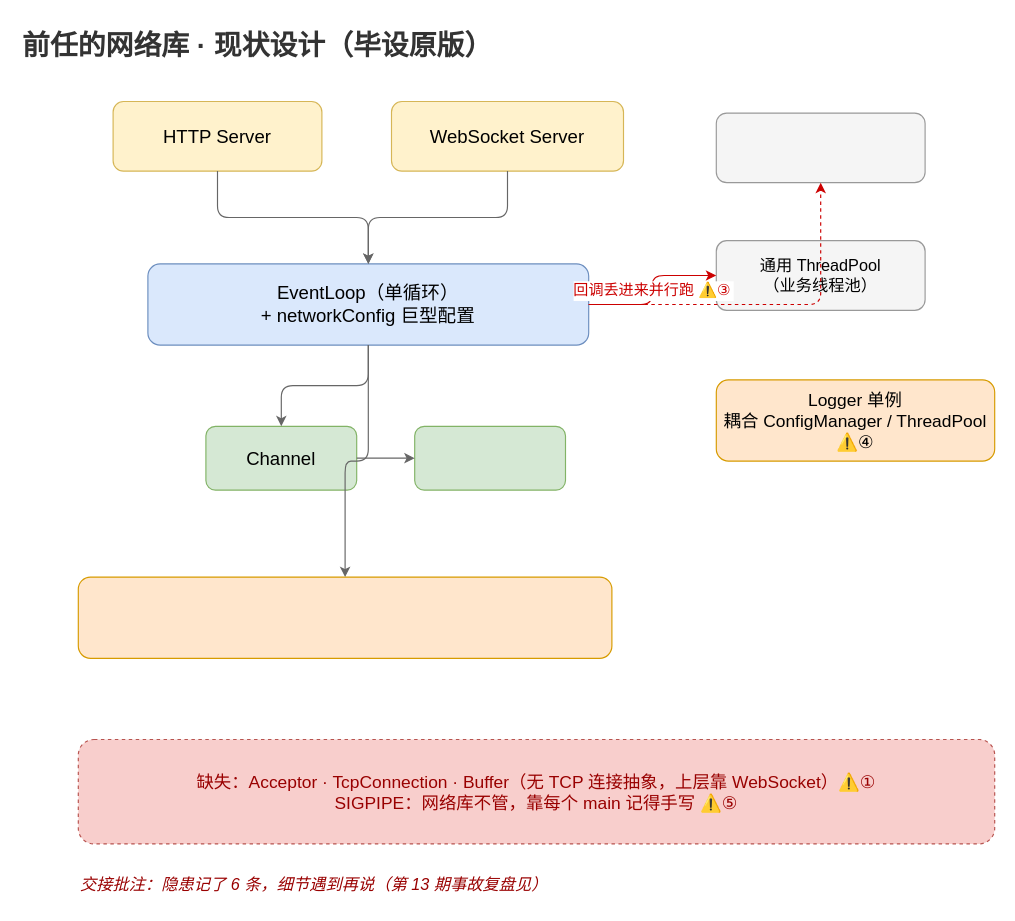
The diagram is 1015 pixels wide and 921 high, and some of its shapes have lost their labels. The shapes that lost their labels are listed below. From the top down, each one's centre as x and y in pixels, then its label:
At (x=820, y=147): "ConfigManager （业务配置模块）".
At (x=490, y=457): "Epoll".
At (x=344, y=617): "HierarchicalTimingWheel 层级时间轮 + 补丁最小堆 + weak_ptr 存储 ⚠️②".
